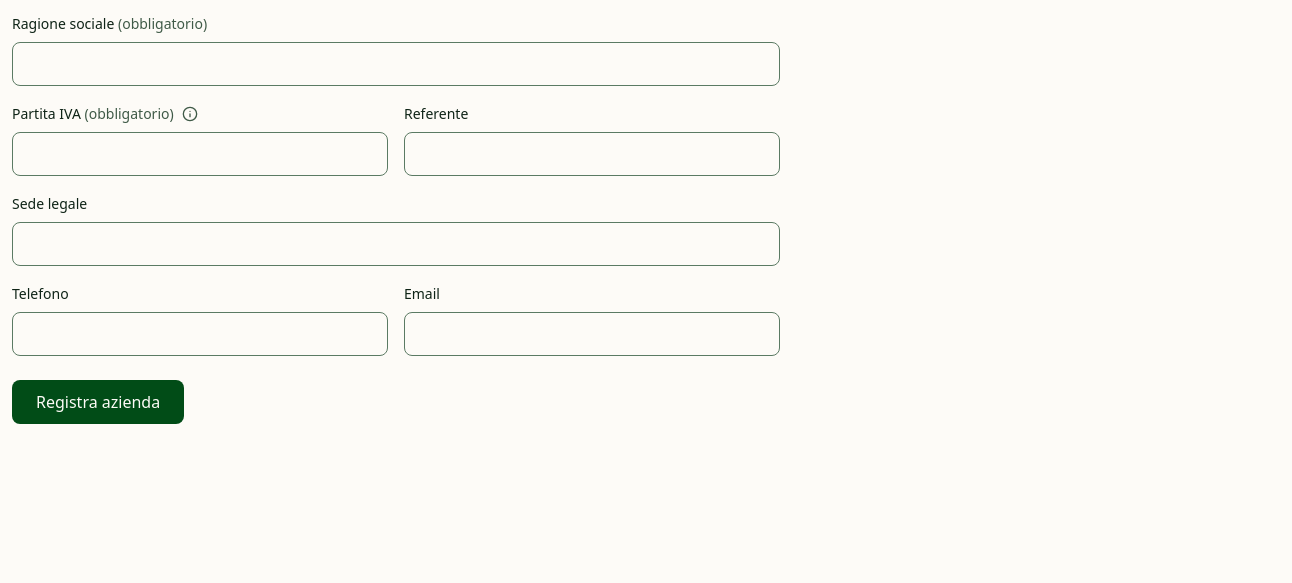
Test: <CompanyForm> › riporta sul campo la partita IVA già registrata
Step 1. Type "Officina Rossi" into the field labelled "Ragione sociale (obbligatorio)" → point(396, 64), box [12,42,780,86]
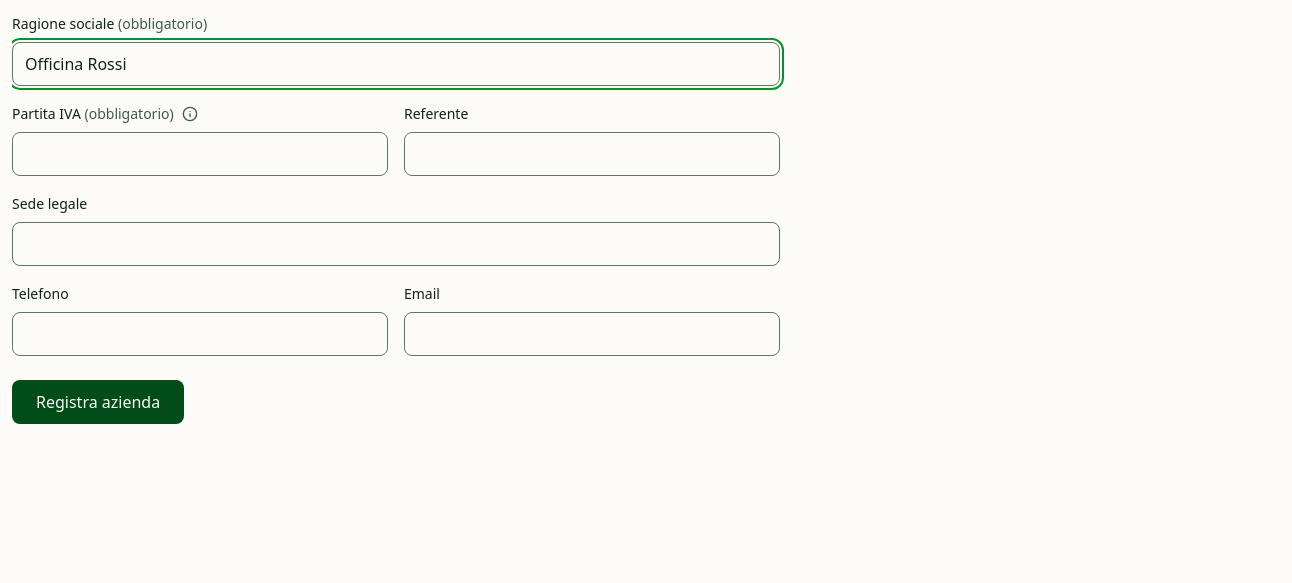
Step 2. Type "12345678901" into the field labelled "Partita IVA (obbligatorio)" → point(200, 154), box [12,132,388,176]
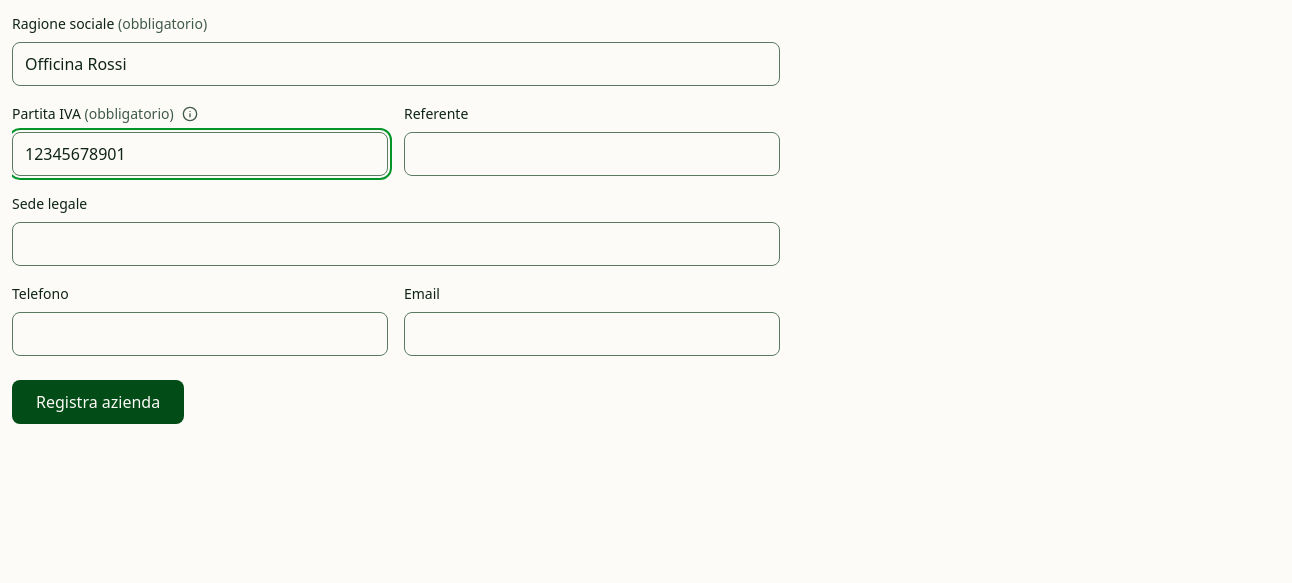
Step 3. Click the button "Registra azienda" → point(98, 402), box [12,380,184,424]
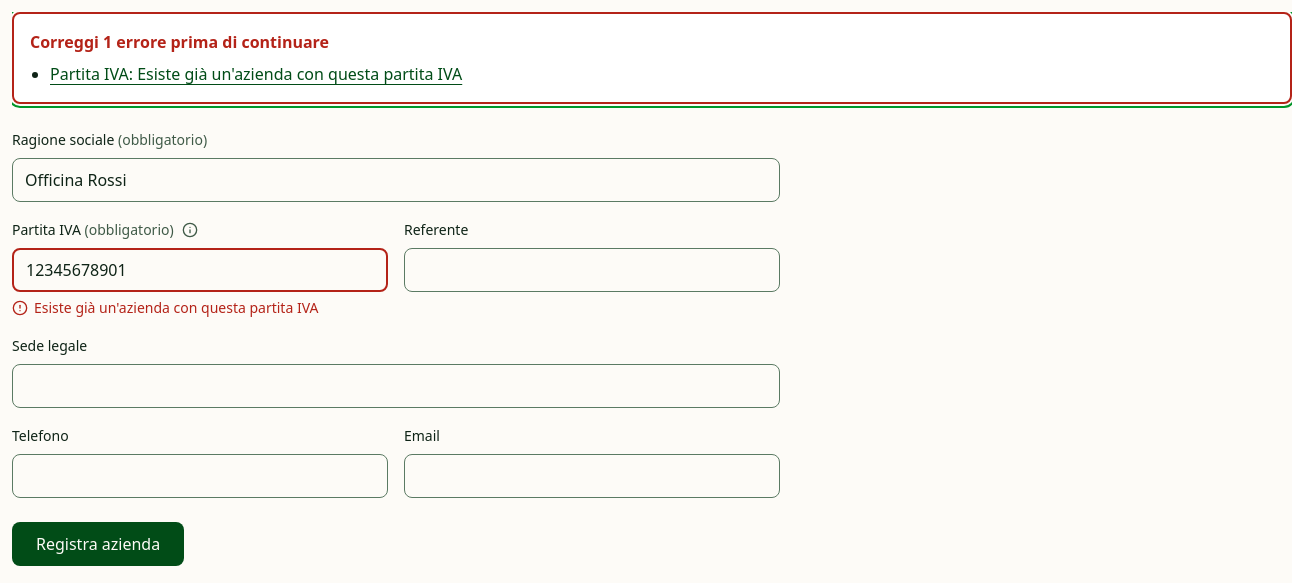
Result: the link "Partita IVA: Esiste già un'azienda con questa partita IVA" is shown at [50,63,462,85]
